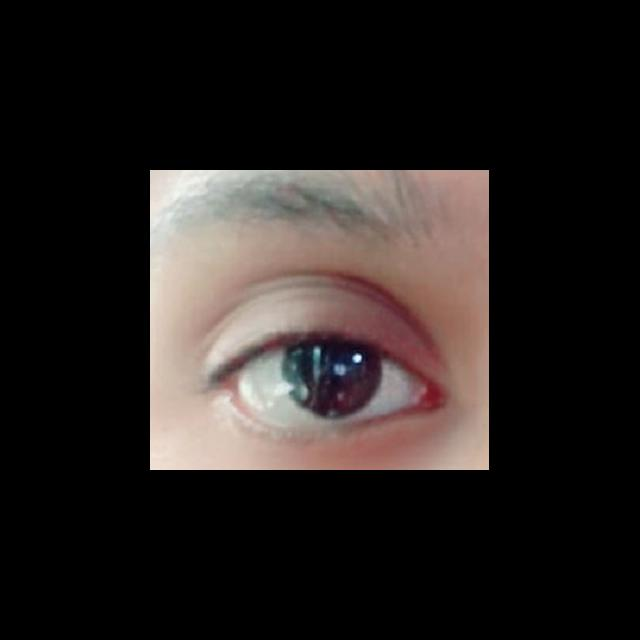eye: (234, 338, 421, 430)
iris: (281, 342, 384, 418)
